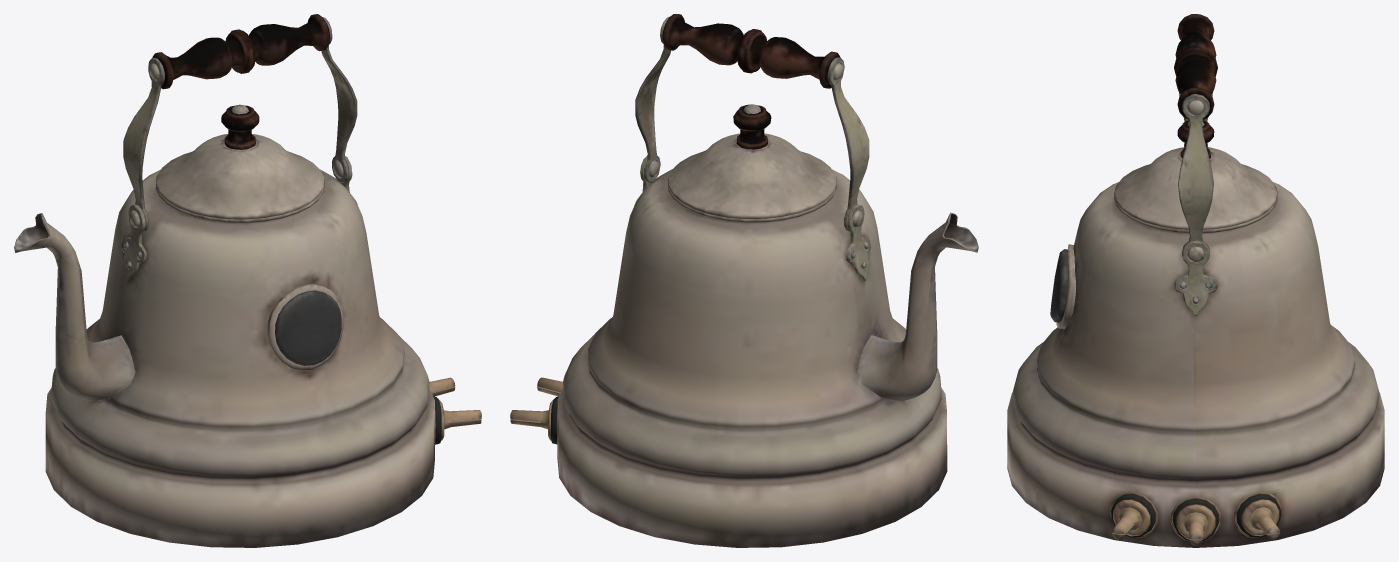
Rendered from vintage_electric_kettle.glb.
3 renders of one model, left to right at view 1: azimuth 30°, elevation 25°; view 2: azimuth 150°, elevation 25°; view 3: azimuth 270°, elevation 25°, orthographic. The views are drawn at different scales.
Visible parts, largest first — view 1: vintage_electric_kettle; view 2: vintage_electric_kettle; view 3: vintage_electric_kettle.
Boxes of the visible parts, bbox=[...] form: vintage_electric_kettle: bbox=[14, 14, 481, 547]; vintage_electric_kettle: bbox=[510, 14, 978, 547]; vintage_electric_kettle: bbox=[1007, 14, 1384, 547].
Size of the model in its own units: 0.3209 by 0.3044 by 0.2478.
Materials: 2 (2 with a texture image).
